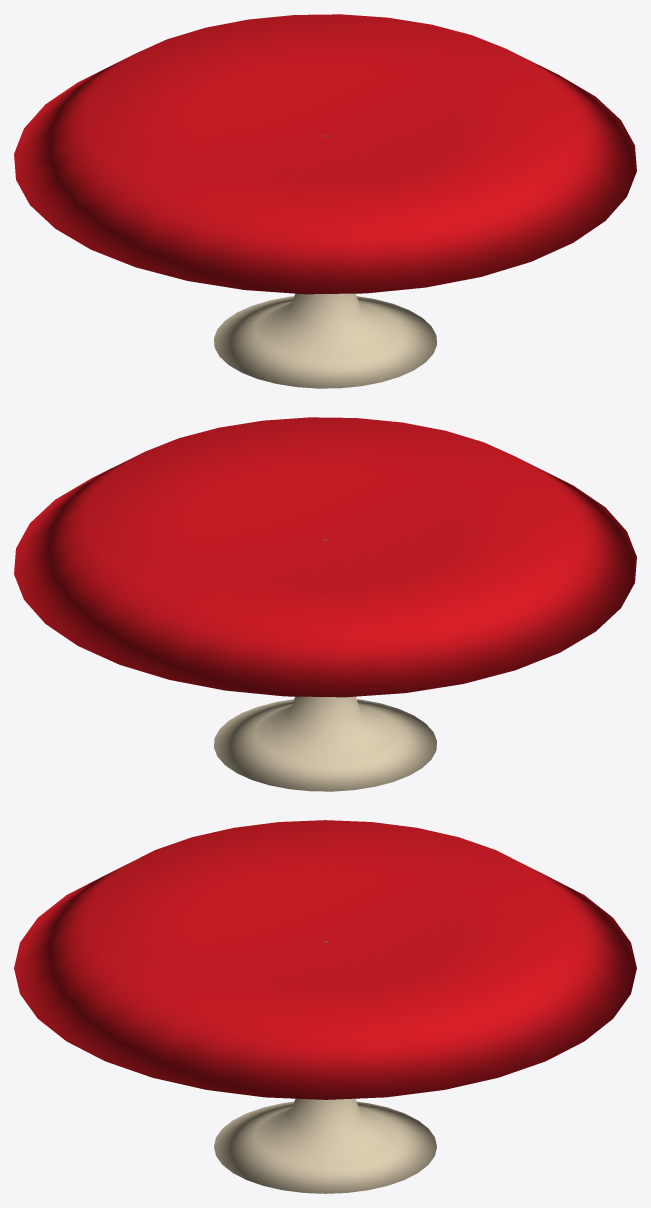
File: champi04.fbx
3 renders of one model, top to bottom at view 1: azimuth 30°, elevation 25°; view 2: azimuth 150°, elevation 25°; view 3: azimuth 270°, elevation 25°, orthographic.
Parts seen in each view (by area): view 1: Cube; view 2: Cube; view 3: Cube.
Boxes of the visible parts, bbox=[...] form: Cube: bbox=[14, 14, 636, 388]; Cube: bbox=[14, 417, 636, 791]; Cube: bbox=[14, 820, 636, 1193].
Bounding box in the file's own units: 331 × 132 × 331.
